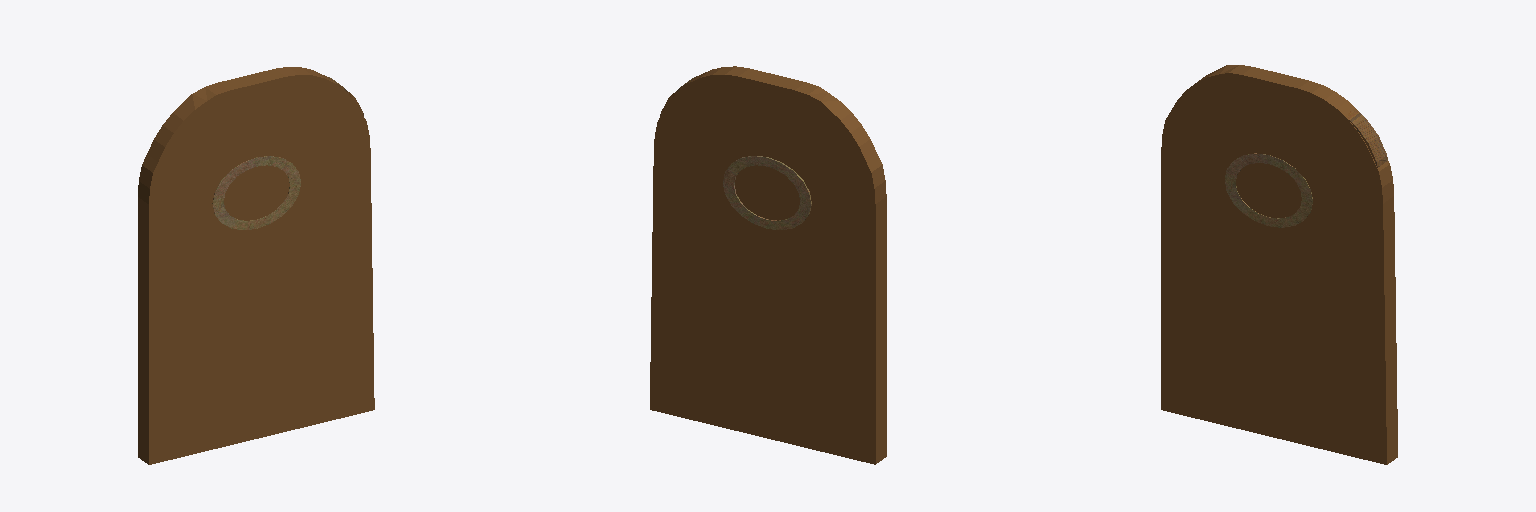
The picture shows the model from 3 angles: view 1: azimuth 30°, elevation 25°; view 2: azimuth 150°, elevation 25°; view 3: azimuth 330°, elevation 25°; orthographic projection.
Visible parts, largest first — view 1: polySurface1256polySurface1098, polySurface1098polySurface1257; view 2: polySurface1256polySurface1098, polySurface1098polySurface1257; view 3: polySurface1256polySurface1098, polySurface1098polySurface1257, polySurface1098polySurface1255.
Part boxes in pixels (left/top/right/bottom): polySurface1256polySurface1098: left=138, top=67, right=374, bottom=464; polySurface1098polySurface1257: left=212, top=156, right=300, bottom=229; polySurface1256polySurface1098: left=650, top=66, right=886, bottom=464; polySurface1098polySurface1257: left=723, top=156, right=811, bottom=229; polySurface1256polySurface1098: left=1161, top=65, right=1397, bottom=464; polySurface1098polySurface1257: left=1225, top=153, right=1312, bottom=227; polySurface1098polySurface1255: left=1345, top=109, right=1387, bottom=167.
Bounding box in the file's own units: 1.33 × 1.99 × 0.1251.
3 materials, 3 textured.